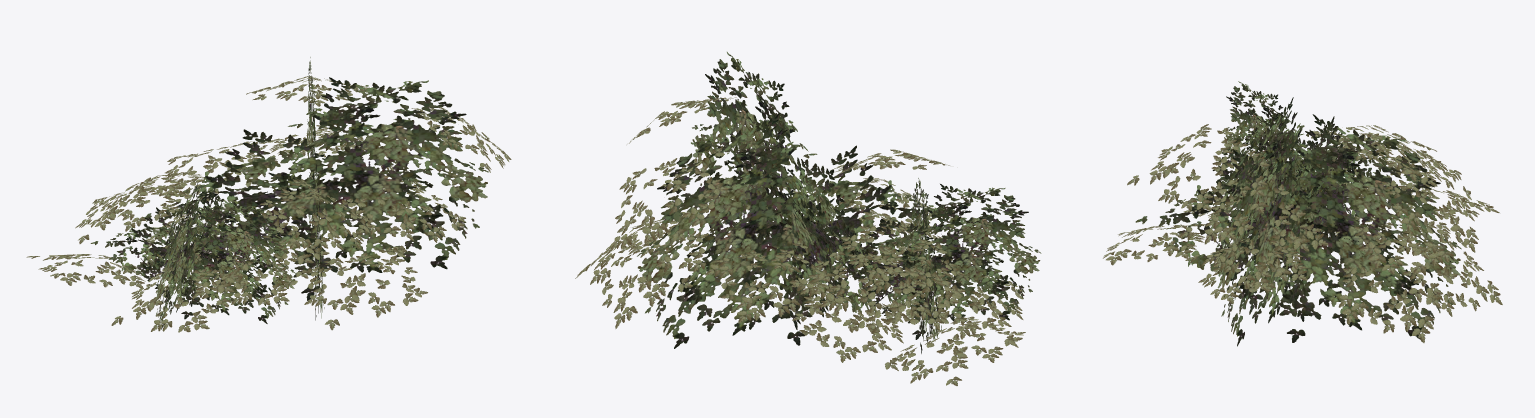
The model's file is decd_saplingclump_lg_l2.fbx.
The picture shows the model from 3 angles, left to right: view 1: azimuth 30°, elevation 25°; view 2: azimuth 150°, elevation 25°; view 3: azimuth 270°, elevation 25°; orthographic projection. The views are drawn at different scales.
Visible parts, largest first — view 1: mesh_node; view 2: mesh_node; view 3: mesh_node.
Boxes of the visible parts, box(x1,y1,x2,y2) form: mesh_node: box(26, 57, 511, 332); mesh_node: box(575, 52, 1041, 385); mesh_node: box(1103, 81, 1502, 346).
Bounding box in the file's own units: 7.21 × 3.91 × 5.88.
